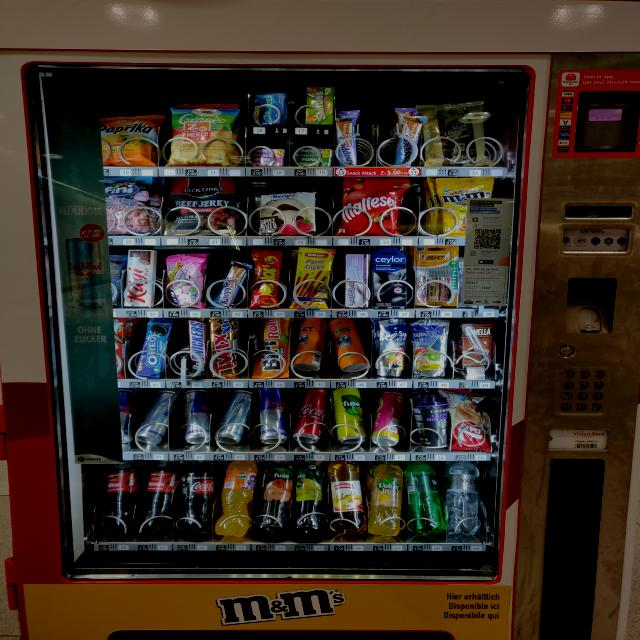7days_croissantschoko_packung_80_1_0000000000003: (447, 390, 490, 451)
airwaves_menthoneucalyptus_riegel_14_1_50173167: (249, 90, 288, 126)
bifi_roll__50__4251097402635: (254, 318, 294, 377)
c-swiss_dosenabisicetea__33__9120025930135: (327, 319, 375, 375), (290, 316, 329, 373)
caferoyal_classicmacchiato__33__7617014164487: (413, 394, 456, 450)
caprisun_multivitamin__20__4000177605004: (407, 319, 451, 379), (375, 318, 407, 377)
coke__dose_33__54491472: (294, 388, 332, 445)
coke__flasche_50__54491472: (140, 460, 181, 533), (102, 461, 142, 530)
coke_zero_flasche_50__5449000131836: (176, 459, 218, 535)
comella_schokodrink__33__7613100037253: (454, 319, 499, 371)
fanta___50__40822938: (214, 459, 260, 539)
fini_galaxymix_packung_100_1_8410525150364: (104, 176, 154, 235)
fini_jellykisses_packung_80_1_8410525116704: (161, 250, 207, 308)
fuse_lemon__50__5449000235947: (294, 462, 326, 535)
fuse_lemon_dose_33__5449000235947: (334, 387, 370, 447)
fuse_peach__50__5449000236623: (258, 462, 293, 540)
jacklinks_beefjerkyorginal__25__4047751730219: (161, 176, 243, 235)
jlbrichard_gauffrechoko__90__5410495002079: (418, 100, 491, 169)
kagi___50__7610046000259: (121, 249, 158, 308)
knoppers_riegel____4035800488808: (211, 259, 253, 310)
lorenz_nicnacs__40__4018077798818: (246, 245, 286, 309)
malburner_partysticks__40__7610200279682: (291, 248, 337, 309)
maltesers___100__5000159023061: (340, 176, 411, 237)
mnms_gelb__45__40111445: (435, 176, 496, 237)
oreo___66__84100733: (133, 321, 173, 377)
ramseier_schorle__50__7610057012456: (330, 462, 366, 534)
redbull___33__90162909: (255, 387, 292, 446), (132, 390, 172, 444), (177, 388, 213, 444)
redbull_light__33__90162800: (212, 390, 252, 440)
skittles_sour_riegel_51_1_0000000000004: (302, 84, 340, 126)
snickers___50__5000159461122: (185, 318, 207, 377)
stimorol_spearmint_riegel_14_1_0000000000005: (298, 148, 335, 167)
stimorol_wildcherry_riegel_14_1_57060330: (250, 146, 286, 166)
tiki_himbeer_brause__50__00000000009342: (370, 391, 410, 451)
twix___50__5000159459228: (206, 319, 244, 377)
valser_classic__50__76404160: (405, 461, 446, 539)
valser_still__50__7610335002575: (447, 458, 484, 538)
volvic_pinapple__50__305764335648: (366, 463, 404, 537)
zweifel_graneochilli__100__7610095184009: (164, 101, 242, 167)
zweifel_paprika__90__7610095013002: (99, 114, 160, 168)
